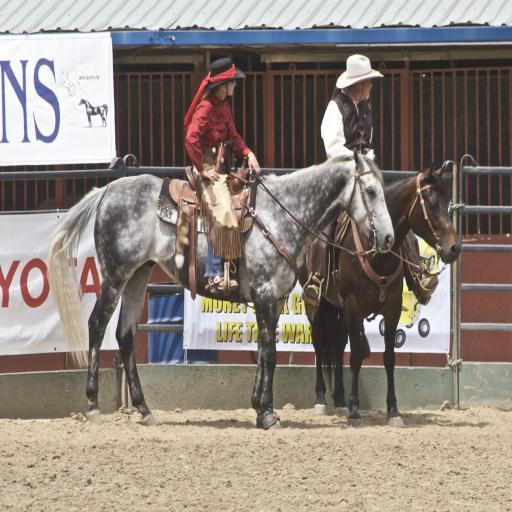horse: (44, 147, 396, 431), (298, 162, 462, 426)
